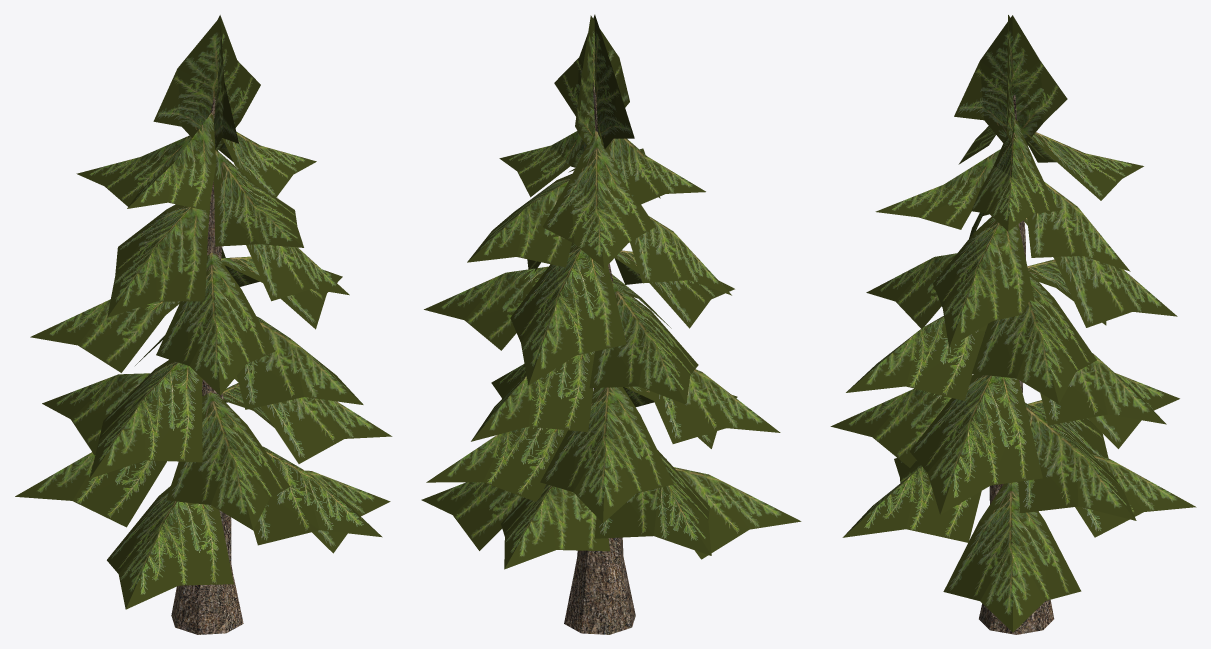
File: cedar_01_a_source.obj
3 views of the same model, side by side, from view 1: azimuth 30°, elevation 25°; view 2: azimuth 150°, elevation 25°; view 3: azimuth 270°, elevation 25° (orthographic).
Parts seen in each view (by area): view 1: Plane.002_Plane.005, Plane.010_Plane.013, Plane.007_Plane.010, Plane.015_Plane.018, Plane.018_Plane.021, Plane.025_Plane.028, Plane.020_Plane.023, Plane.004_Plane.007, Plane.012_Plane.015, Plane.005_Plane.008, Plane.013_Plane.016, Plane.009_Plane.012 (+9 smaller); view 2: Plane.008_Plane.011, Plane.016_Plane.019, Plane.021_Plane.024, Plane.013_Plane.016, Plane.011_Plane.014, Plane.003_Plane.006, Plane.006_Plane.009, Plane.005_Plane.008, Cylinder, Plane.010_Plane.013, Plane.019_Plane.022, Plane.014_Plane.017 (+10 smaller); view 3: Plane.009_Plane.012, Plane.001_Plane.004, Plane.017_Plane.020, Plane.014_Plane.017, Plane.024_Plane.027, Plane.006_Plane.009, Plane.012_Plane.015, Plane.004_Plane.007, Plane.022_Plane.025, Plane.016_Plane.019, Plane.011_Plane.014, Plane.007_Plane.010 (+10 smaller).
Boxes of the visible parts, left/top/right/bottom form: Plane.002_Plane.005: left=107, top=486, right=233, bottom=609; Plane.010_Plane.013: left=89, top=359, right=202, bottom=478; Plane.007_Plane.010: left=166, top=392, right=290, bottom=530; Plane.015_Plane.018: left=156, top=252, right=275, bottom=395; Plane.018_Plane.021: left=107, top=197, right=210, bottom=317; Plane.025_Plane.028: left=153, top=16, right=260, bottom=150; Plane.020_Plane.023: left=213, top=149, right=303, bottom=247; Plane.004_Plane.007: left=253, top=446, right=382, bottom=545; Plane.012_Plane.015: left=237, top=316, right=363, bottom=409; Plane.005_Plane.008: left=15, top=452, right=167, bottom=527; Plane.013_Plane.016: left=30, top=299, right=180, bottom=372; Plane.009_Plane.012: left=234, top=376, right=392, bottom=463; Plane.008_Plane.011: left=540, top=387, right=673, bottom=522; Plane.016_Plane.019: left=510, top=242, right=626, bottom=385; Plane.021_Plane.024: left=543, top=131, right=655, bottom=268; Plane.013_Plane.016: left=589, top=281, right=698, bottom=404; Plane.011_Plane.014: left=471, top=351, right=594, bottom=441; Plane.003_Plane.006: left=501, top=484, right=609, bottom=569; Plane.006_Plane.009: left=426, top=426, right=567, bottom=501; Plane.005_Plane.008: left=595, top=450, right=711, bottom=555; Cylinder: left=564, top=81, right=635, bottom=634; Plane.010_Plane.013: left=649, top=369, right=780, bottom=443; Plane.019_Plane.022: left=467, top=173, right=572, bottom=267; Plane.014_Plane.017: left=424, top=266, right=548, bottom=350; Plane.009_Plane.012: left=910, top=374, right=1042, bottom=514; Plane.001_Plane.004: left=943, top=482, right=1081, bottom=632; Plane.017_Plane.020: left=933, top=216, right=1034, bottom=347; Plane.014_Plane.017: left=972, top=271, right=1096, bottom=403; Plane.024_Plane.027: left=954, top=15, right=1067, bottom=142; Plane.006_Plane.009: left=1018, top=402, right=1136, bottom=520; Plane.012_Plane.015: left=846, top=316, right=987, bottom=400; Plane.004_Plane.007: left=842, top=466, right=981, bottom=542; Plane.022_Plane.025: left=971, top=119, right=1058, bottom=231; Plane.016_Plane.019: left=1023, top=218, right=1177, bottom=327; Plane.011_Plane.014: left=1040, top=353, right=1166, bottom=425; Plane.007_Plane.010: left=830, top=388, right=951, bottom=467.
Bounding box in the file's own units: 11.21 × 19.36 × 10.55.
2 materials, 2 textured.
